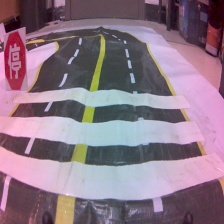stop: (3, 28, 28, 92)
